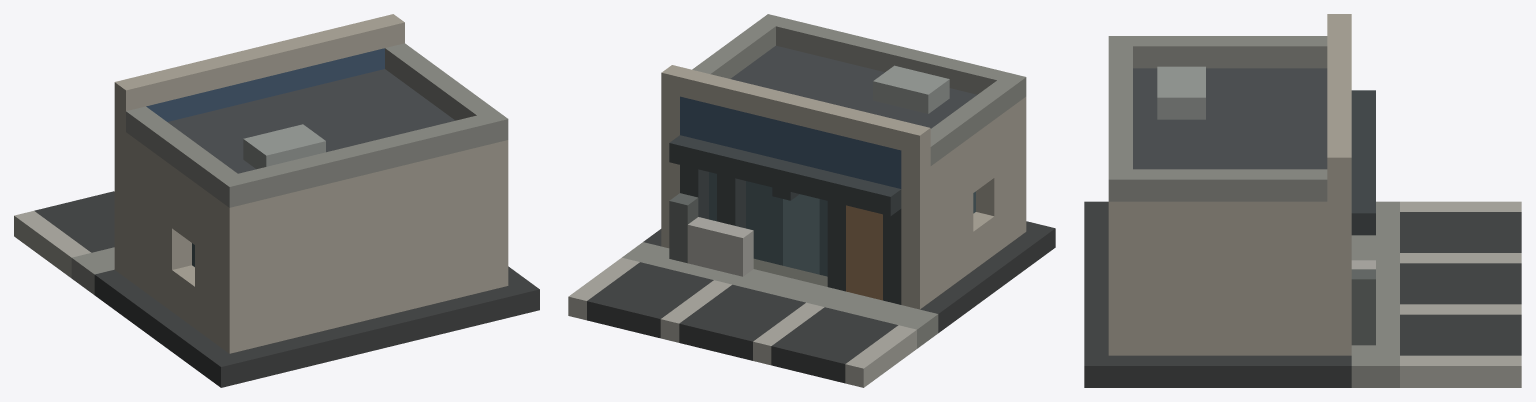
Rendered from Claude_convenience_store.glb.
3 renders of one model, left to right at view 1: azimuth 30°, elevation 25°; view 2: azimuth 150°, elevation 25°; view 3: azimuth 270°, elevation 25°, orthographic. The views are drawn at different scales.
Visible parts, largest first — view 1: Claude_convenience_store; view 2: Claude_convenience_store; view 3: Claude_convenience_store.
Boxes of the visible parts, <box> form: Claude_convenience_store: <box>14,14,539,387</box>; Claude_convenience_store: <box>568,14,1055,387</box>; Claude_convenience_store: <box>1084,14,1521,387</box>.
Size of the model in its own units: 8 by 5 by 9.
